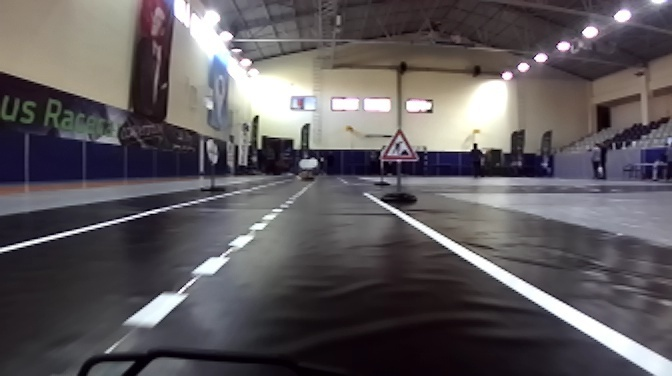yol_yapimi: (378, 125, 419, 163)
